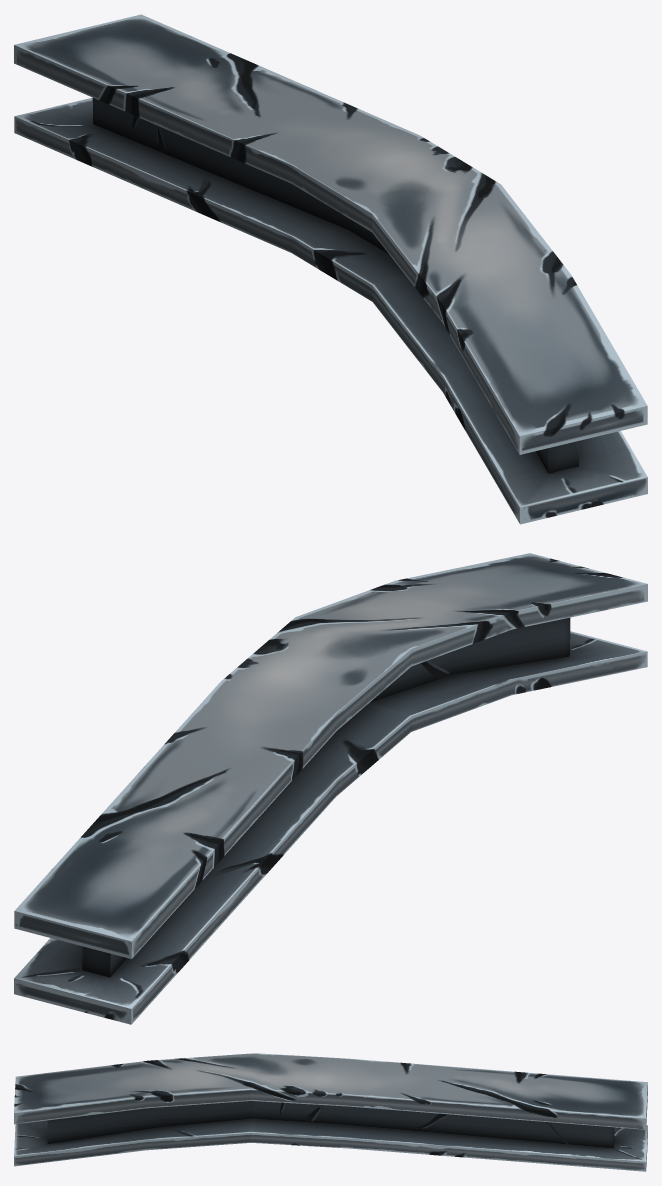
The model's file is poutre.fbx.
3 renders of one model, top to bottom at view 1: azimuth 30°, elevation 25°; view 2: azimuth 150°, elevation 25°; view 3: azimuth 270°, elevation 25°, orthographic. The views are drawn at different scales.
Parts seen in each view (by area): view 1: poutre; view 2: poutre; view 3: poutre.
Boxes of the visible parts, x1,y1,x2,y2 form: poutre: [14, 14, 647, 524]; poutre: [14, 553, 647, 1024]; poutre: [14, 1053, 647, 1171].
Bounding box in the file's own units: 58.01 × 47.74 × 298.
